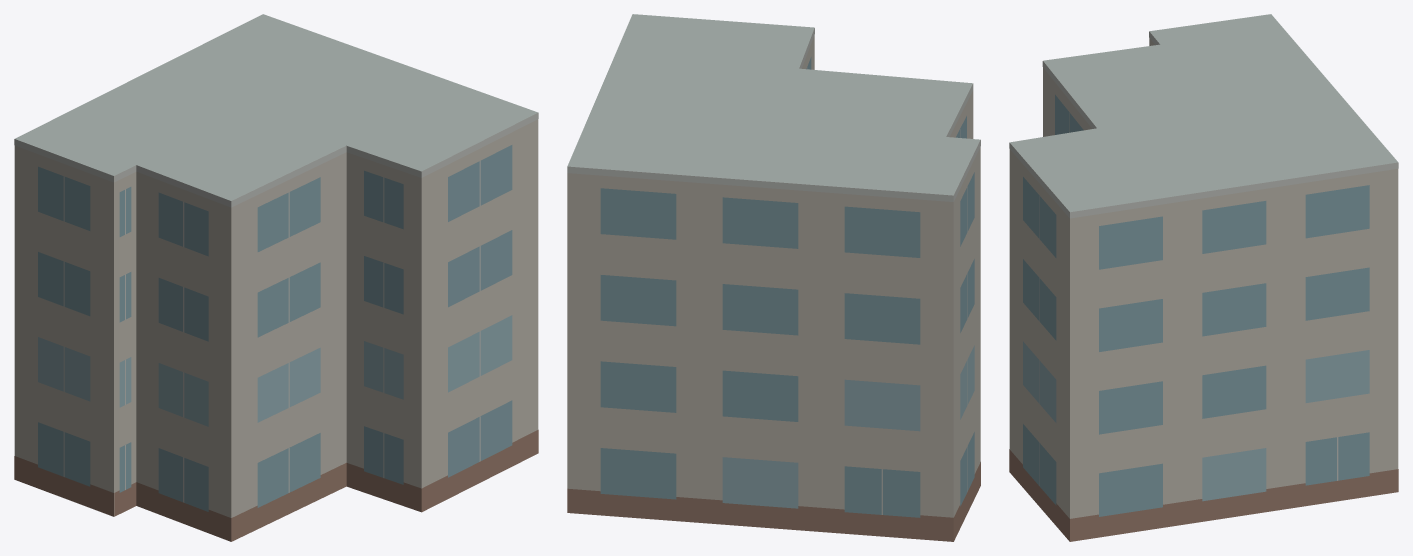
The model's file is survey-upis-32945494.glb.
3 renders of one model, left to right at view 1: azimuth 30°, elevation 25°; view 2: azimuth 150°, elevation 25°; view 3: azimuth 270°, elevation 25°, orthographic. The views are drawn at different scales.
Visible parts, largest first — view 1: survey-upis-32945494.tmp; view 2: survey-upis-32945494.tmp; view 3: survey-upis-32945494.tmp.
Part boxes in pixels (bbox=[...]): survey-upis-32945494.tmp: bbox=[14, 14, 538, 541]; survey-upis-32945494.tmp: bbox=[567, 14, 980, 541]; survey-upis-32945494.tmp: bbox=[1009, 14, 1398, 541].
Bounding box in the file's own units: 16.56 × 12.83 × 13.73.
